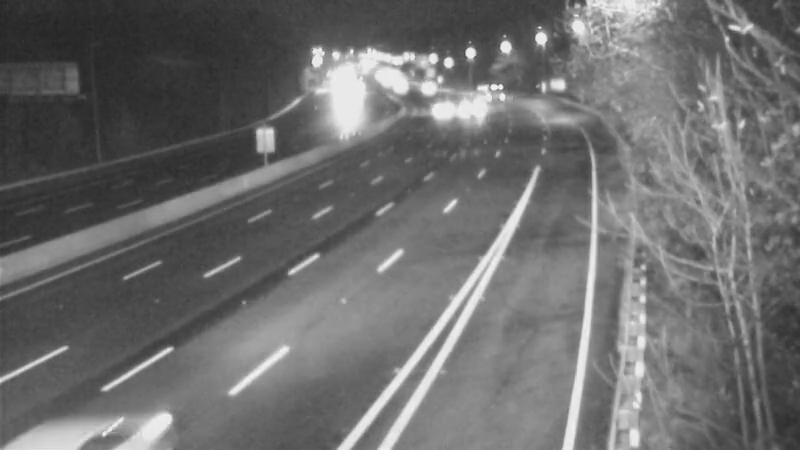vehicle: (402, 66, 452, 116), (464, 66, 514, 116), (416, 85, 466, 135), (443, 84, 493, 134)
